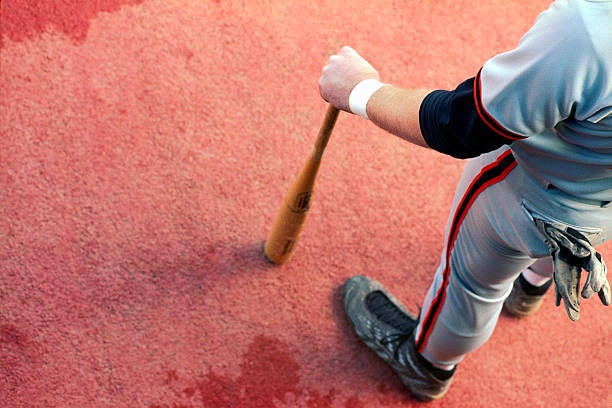bita: (263, 86, 346, 265)
